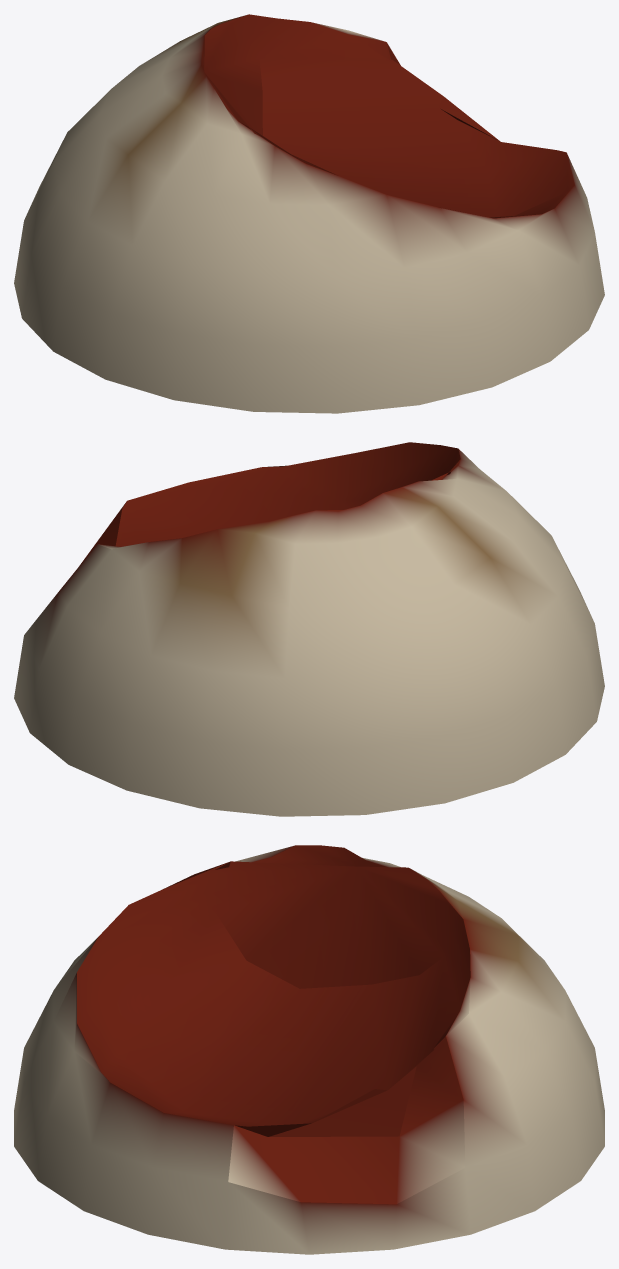
Rendered from dimsum-bao-s2.glb.
3 renders of one model, top to bottom at view 1: azimuth 30°, elevation 25°; view 2: azimuth 150°, elevation 25°; view 3: azimuth 270°, elevation 25°, orthographic.
Visible parts, largest first — view 1: food__food; view 2: food__food; view 3: food__food.
Part boxes in pixels (left/top/right/bottom): food__food: left=14, top=14, right=604, bottom=413; food__food: left=14, top=442, right=604, bottom=816; food__food: left=14, top=845, right=604, bottom=1254.
Bounding box in the file's own units: 0.064 × 0.0279 × 0.0633.
